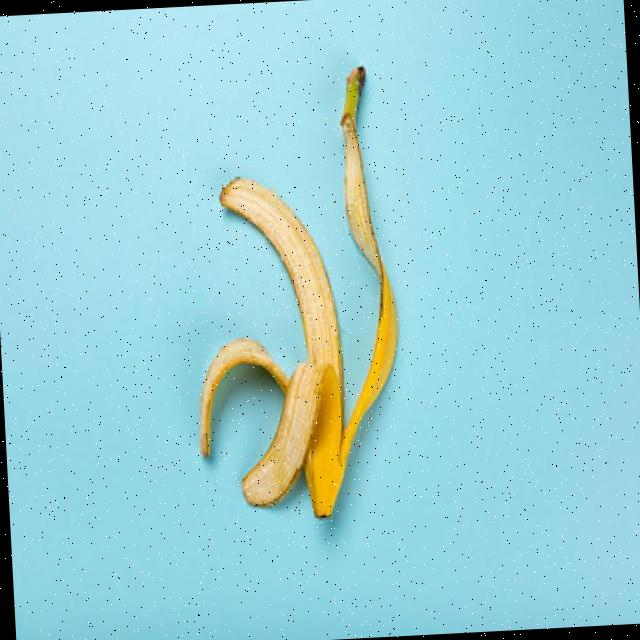banana-peel: (184, 170, 351, 520)
